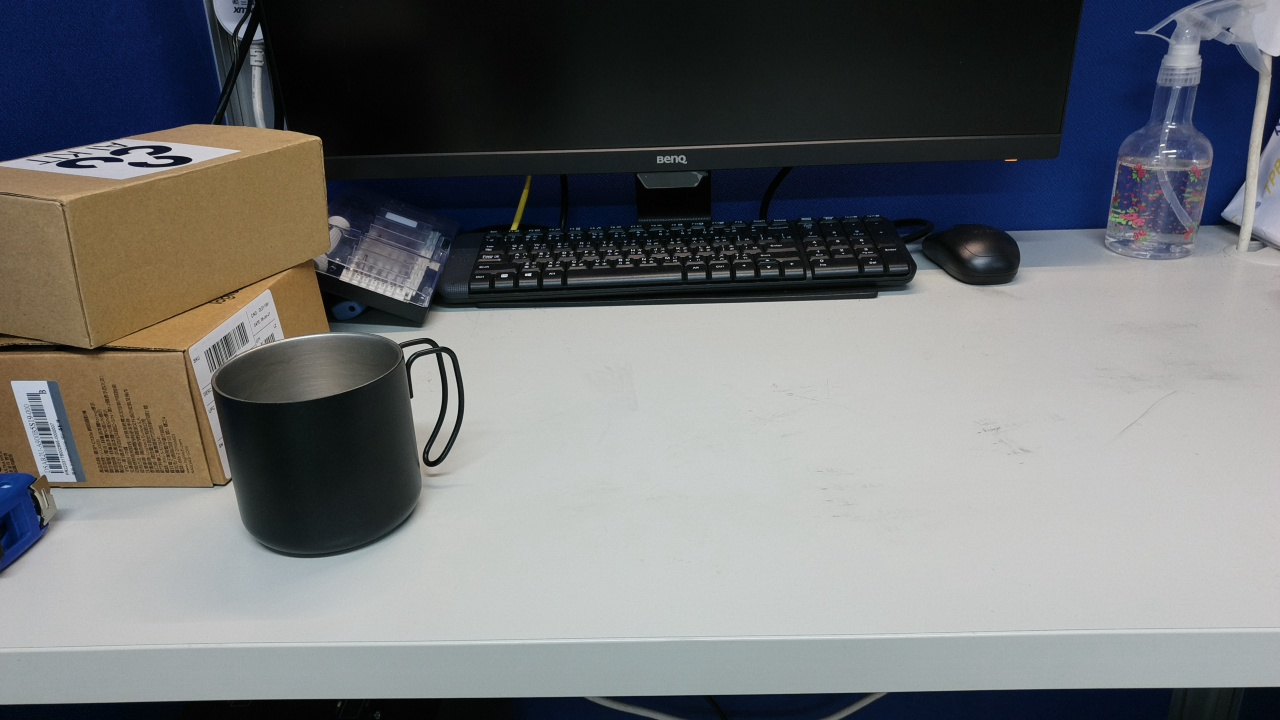circle: (697, 426, 843, 534)
